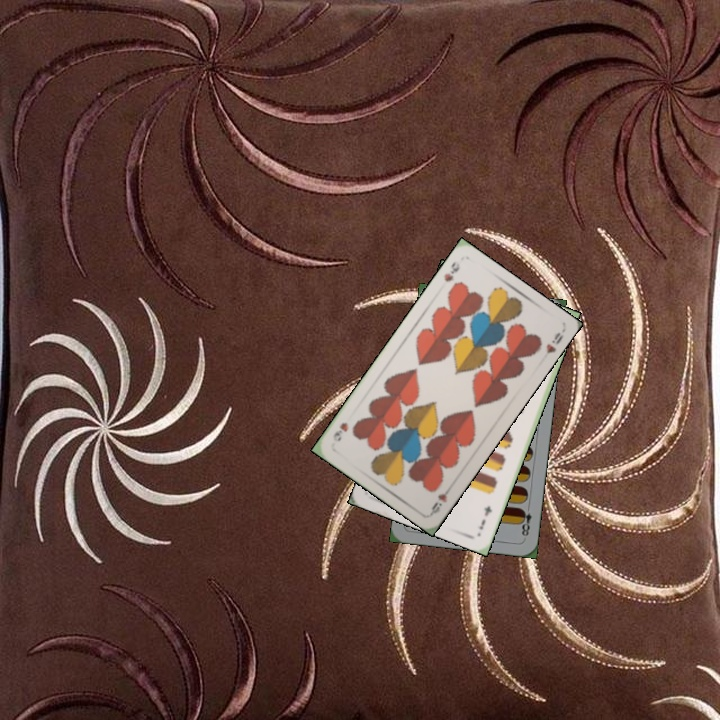E7: (475, 501, 494, 532)
E8: (516, 500, 534, 539)
H9: (427, 480, 456, 516), (440, 257, 463, 284)
